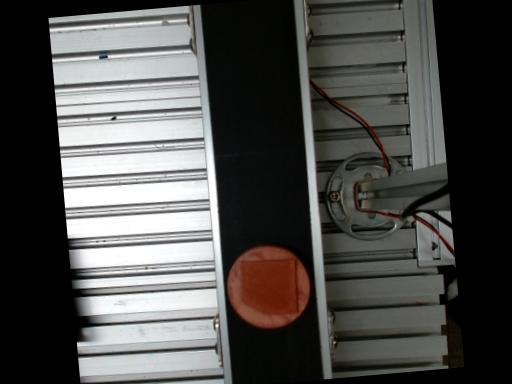Brown_Waper: (227, 244, 310, 327)
Not_Square: (238, 257, 298, 314)
